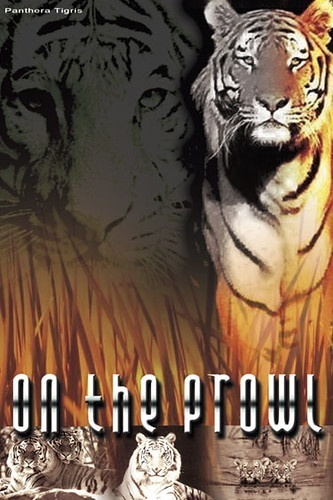tigre: (188, 1, 333, 338), (113, 431, 216, 499), (2, 438, 111, 498), (40, 430, 89, 463), (230, 453, 269, 486), (269, 456, 298, 487)
